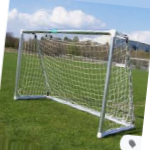goals: (12, 27, 138, 137)
